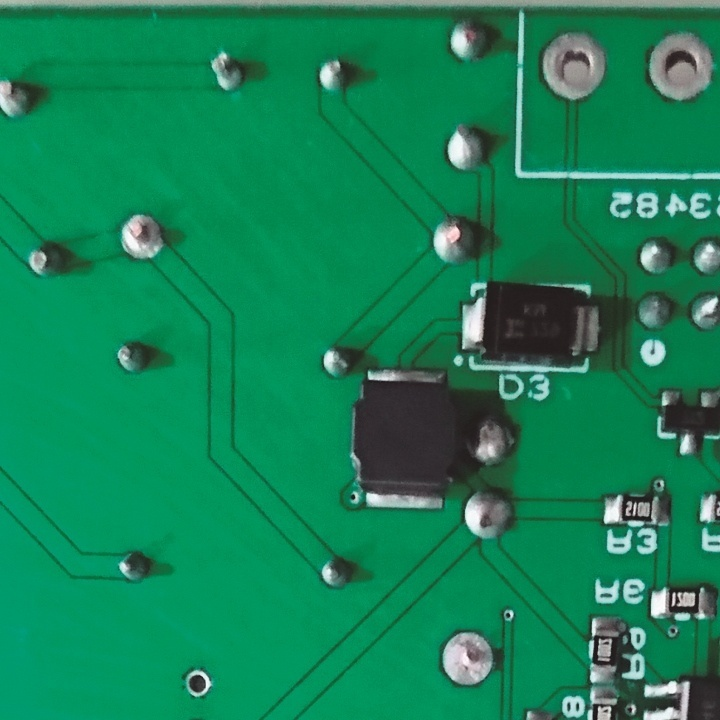F: (639, 27, 715, 101), (534, 30, 609, 103), (439, 629, 497, 689), (116, 209, 170, 262), (178, 662, 218, 703)
